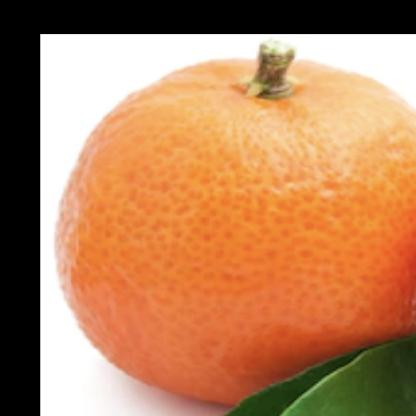fresh: (58, 52, 416, 409)
